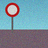sign: (5, 3, 19, 33)
